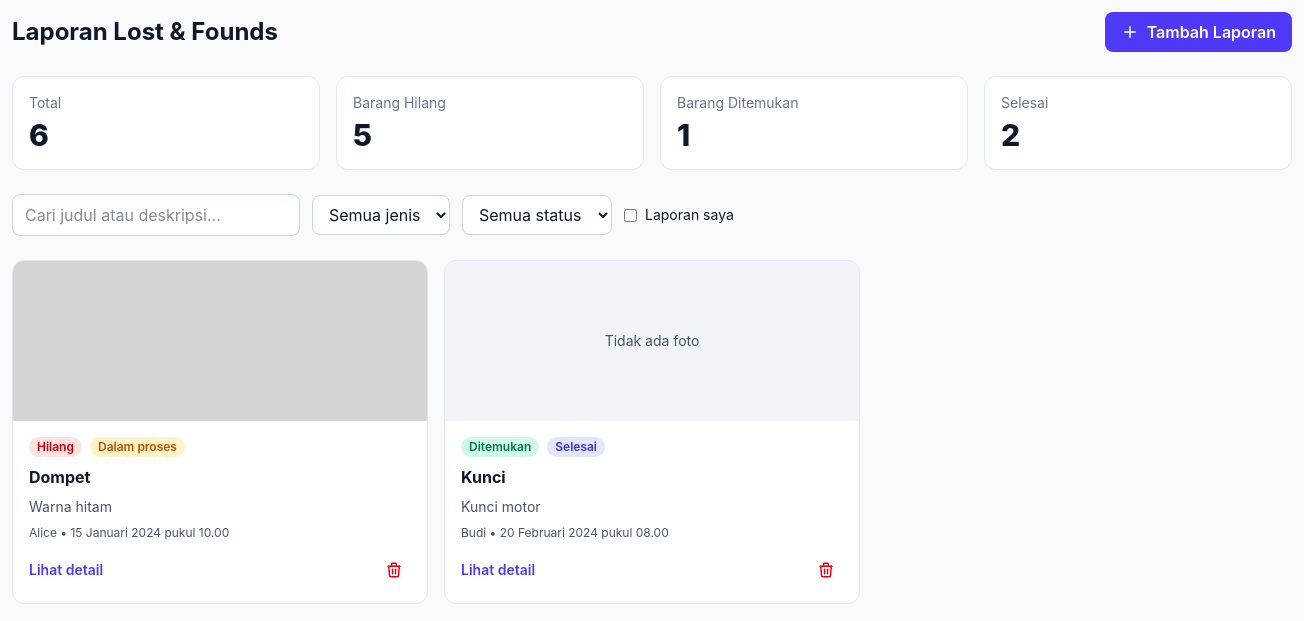
Test: HomePage › menampilkan pesan jika tidak ada laporan yang cocok
This screenshot has width=1304, height=621.
Check: the heading "Dompet" is shown, box [29,467,90,487]
Type "zzz" into the search field named "Cari laporan" at {"x": 156, "y": 215}, box [12,194,300,236]
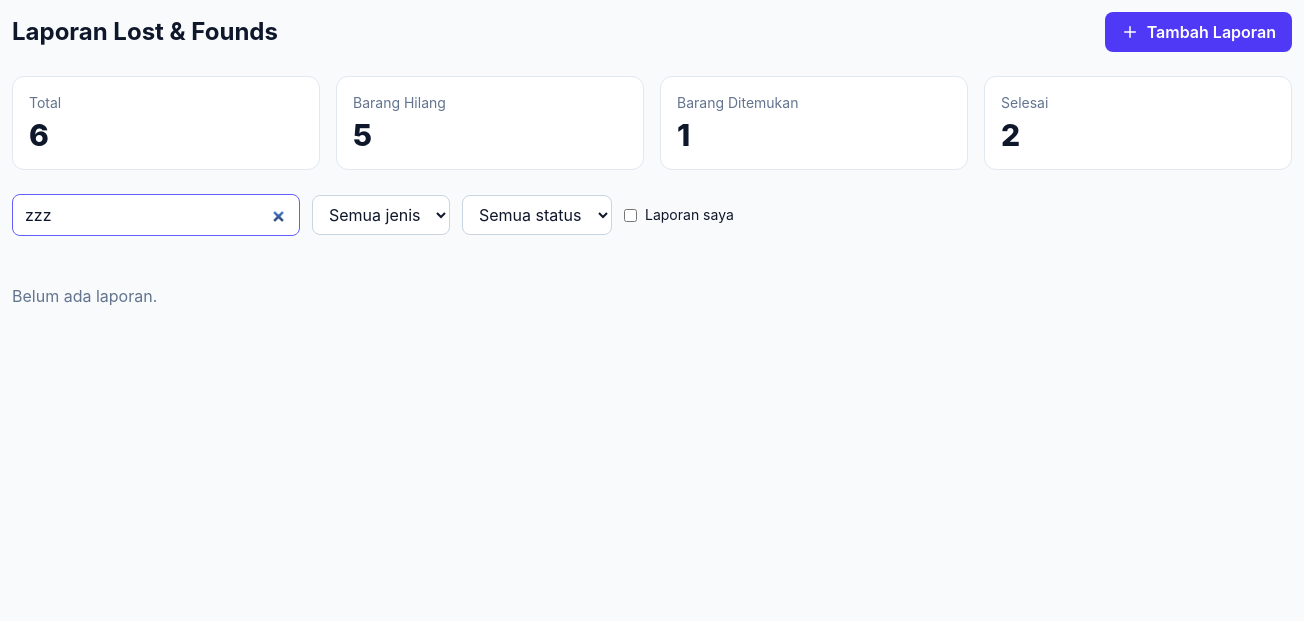
Check: the text "Belum ada laporan." is shown, box [12,286,157,306]
